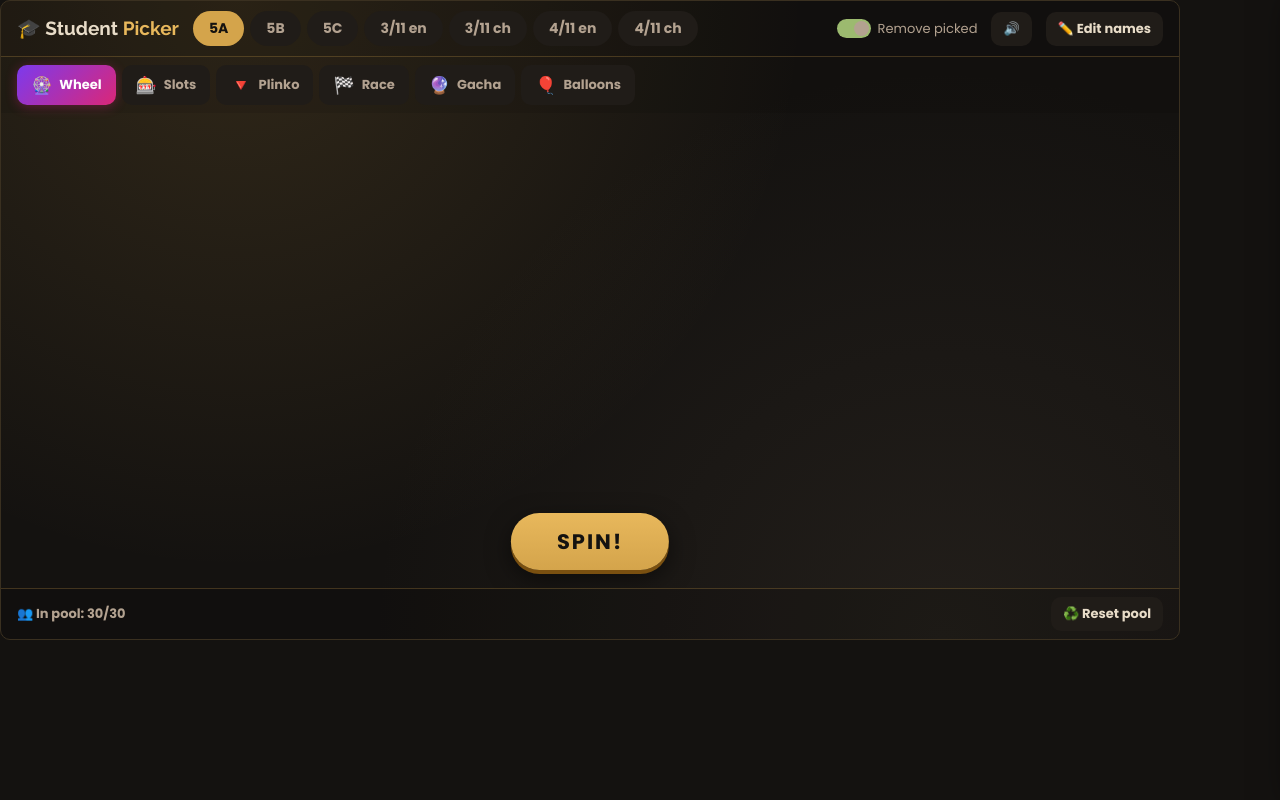
WheelOfNames › picks a winner and shrinks the pool when "Remove picked" is on
The width and height of the screenshot is (1280, 800).
Step 1. Click the button "🔮 Gacha" → [465, 85], box x1=415 y1=65 x2=515 y2=105
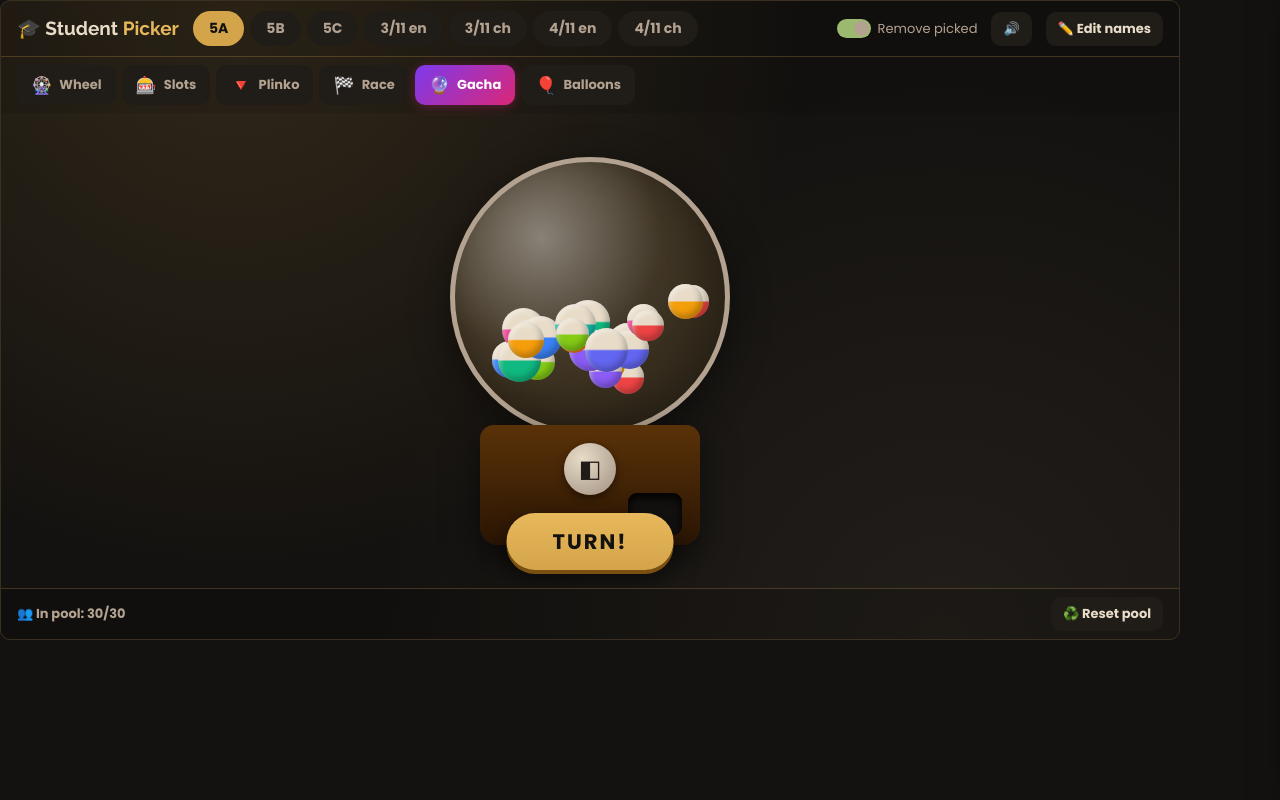
Step 2. Click the button with class "wheel-gobtn" → [590, 542], box x1=506 y1=513 x2=673 y2=570
Wait 4000 ms
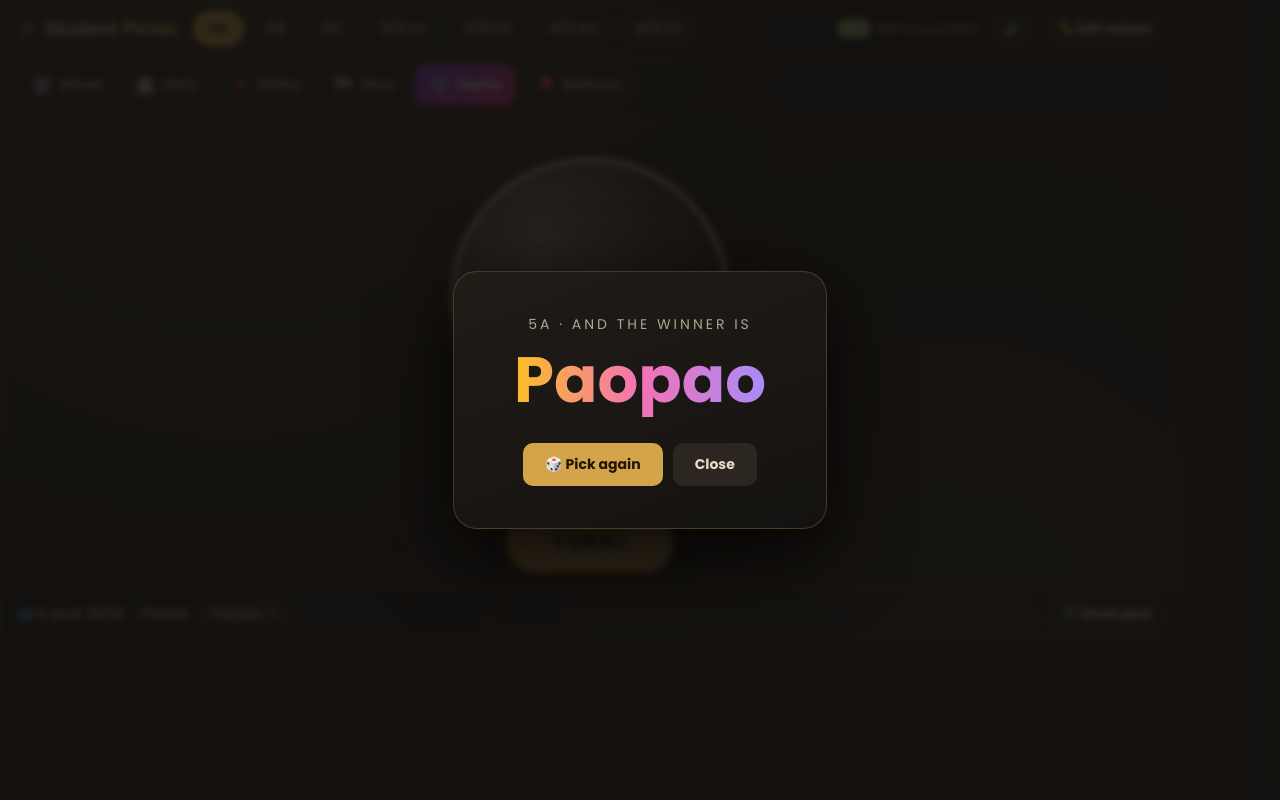
Check: the text "5A · and the winner is" is shown, box x1=514 y1=314 x2=766 y2=335
